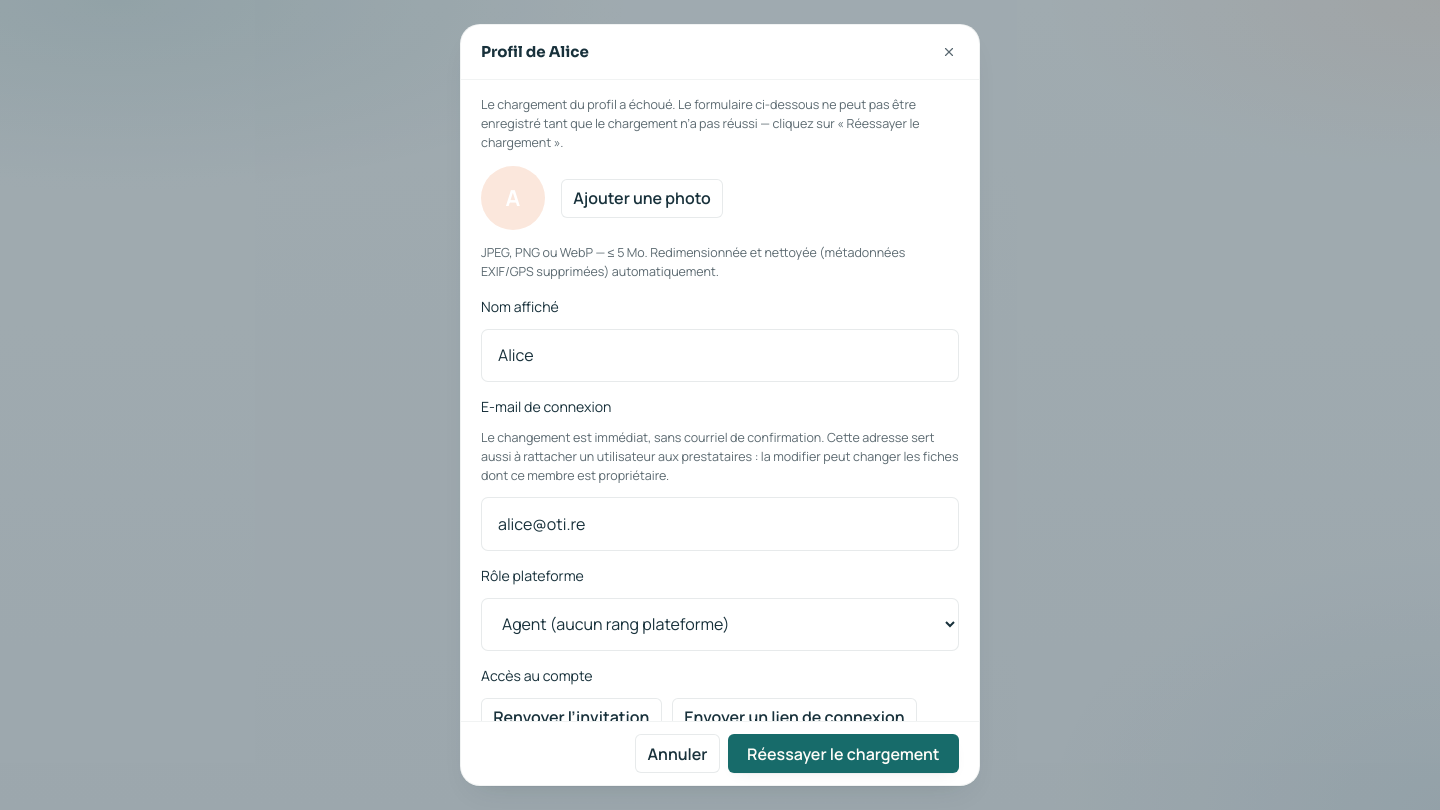
Test: distingue un échec de chargement d’un chargement en cours, avec un motif vrai et un réessai
This screenshot has width=1440, height=810.
Check: the message shows "chargement du profil a échoué", box [481,96,920,150]
Click the button "Réessayer le chargement" at (843, 754), box [728,734,959,773]
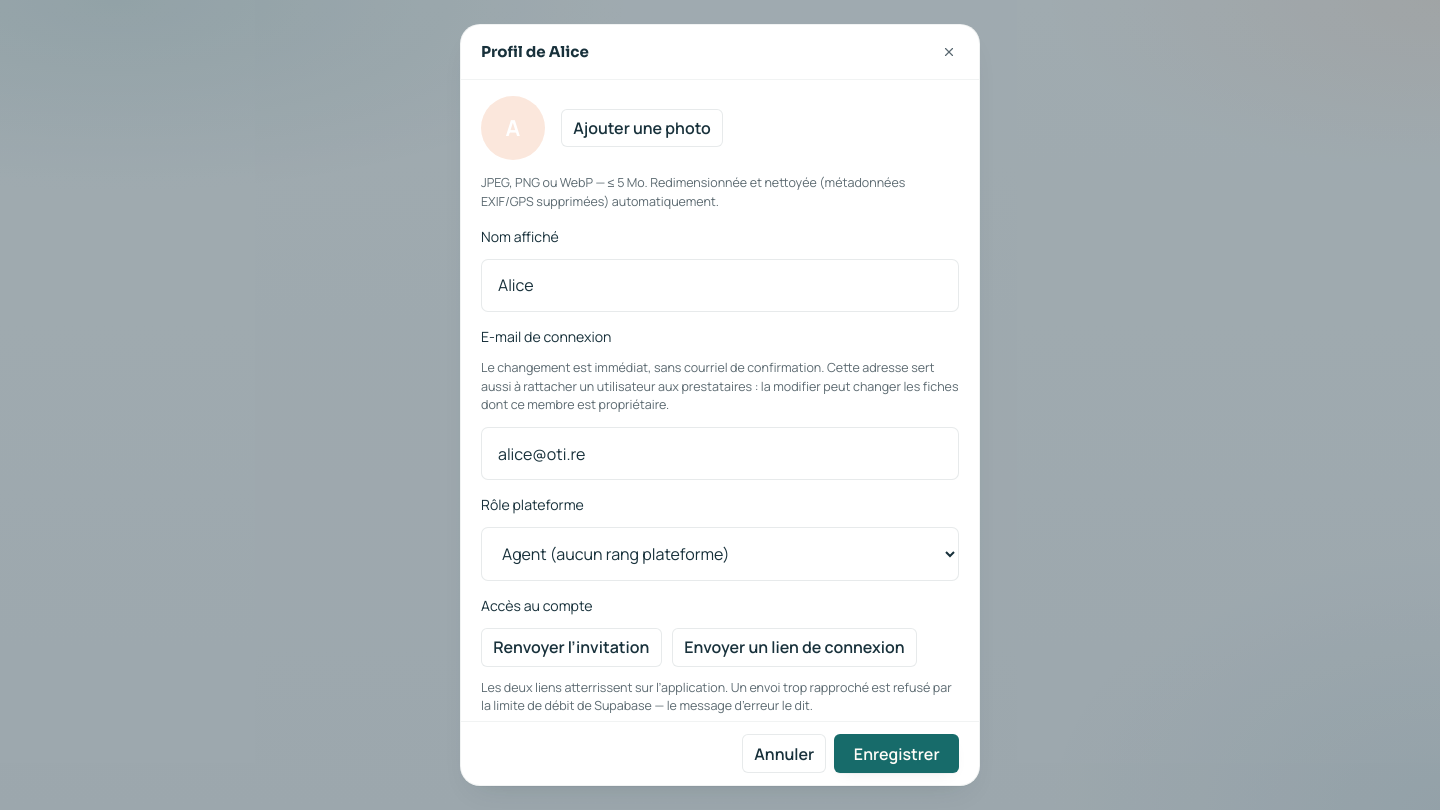
Check: the button "Enregistrer" is shown, box [834,734,959,773]
Check: the message is gone
